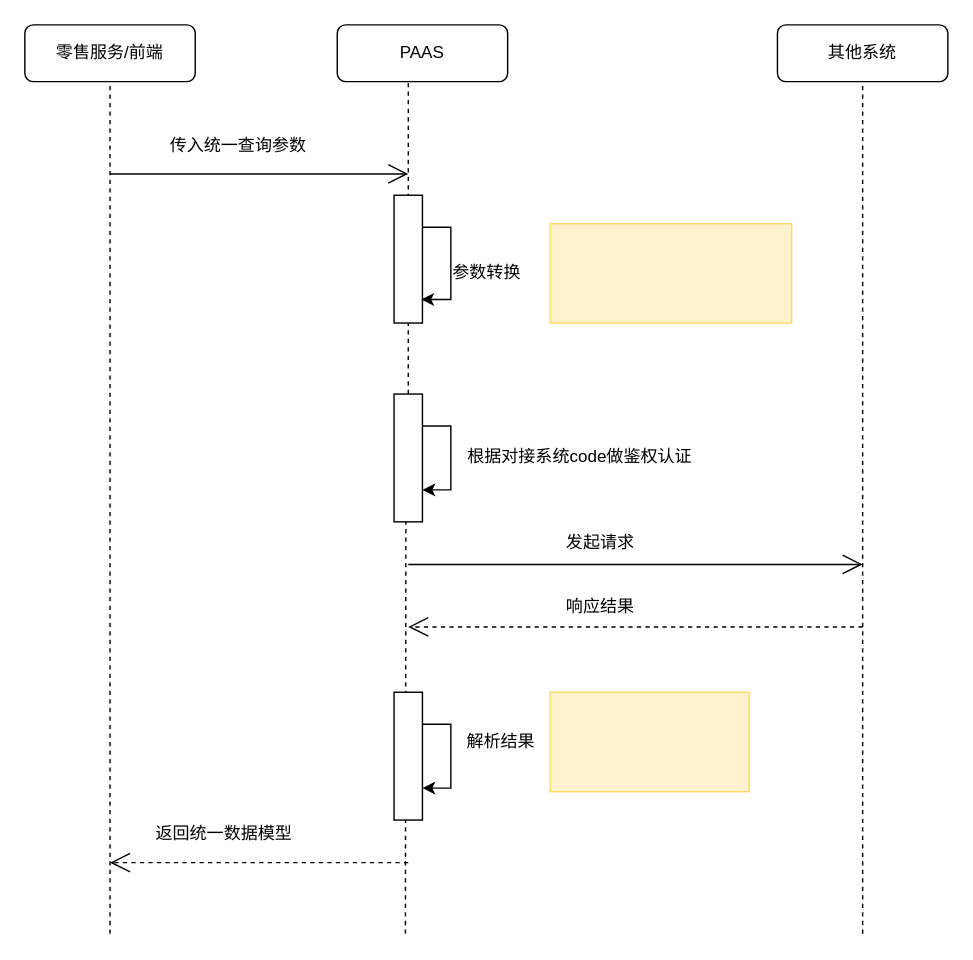
Some shapes in this 973 by 960 pixel diagram are drawn without their labels. The box of each missing label's shape, as (x1, y1, x2, y2) in pixels:
1、获取响应数据类型 2、获取字段映射关系 3、字段名替换 4、数据结构适配: (549, 691, 749, 792)
1、获取接口配置信息 2、获取配置请求json串 3、获取字段映射关系 4、注入查询参数至json串中: (549, 222, 792, 323)
